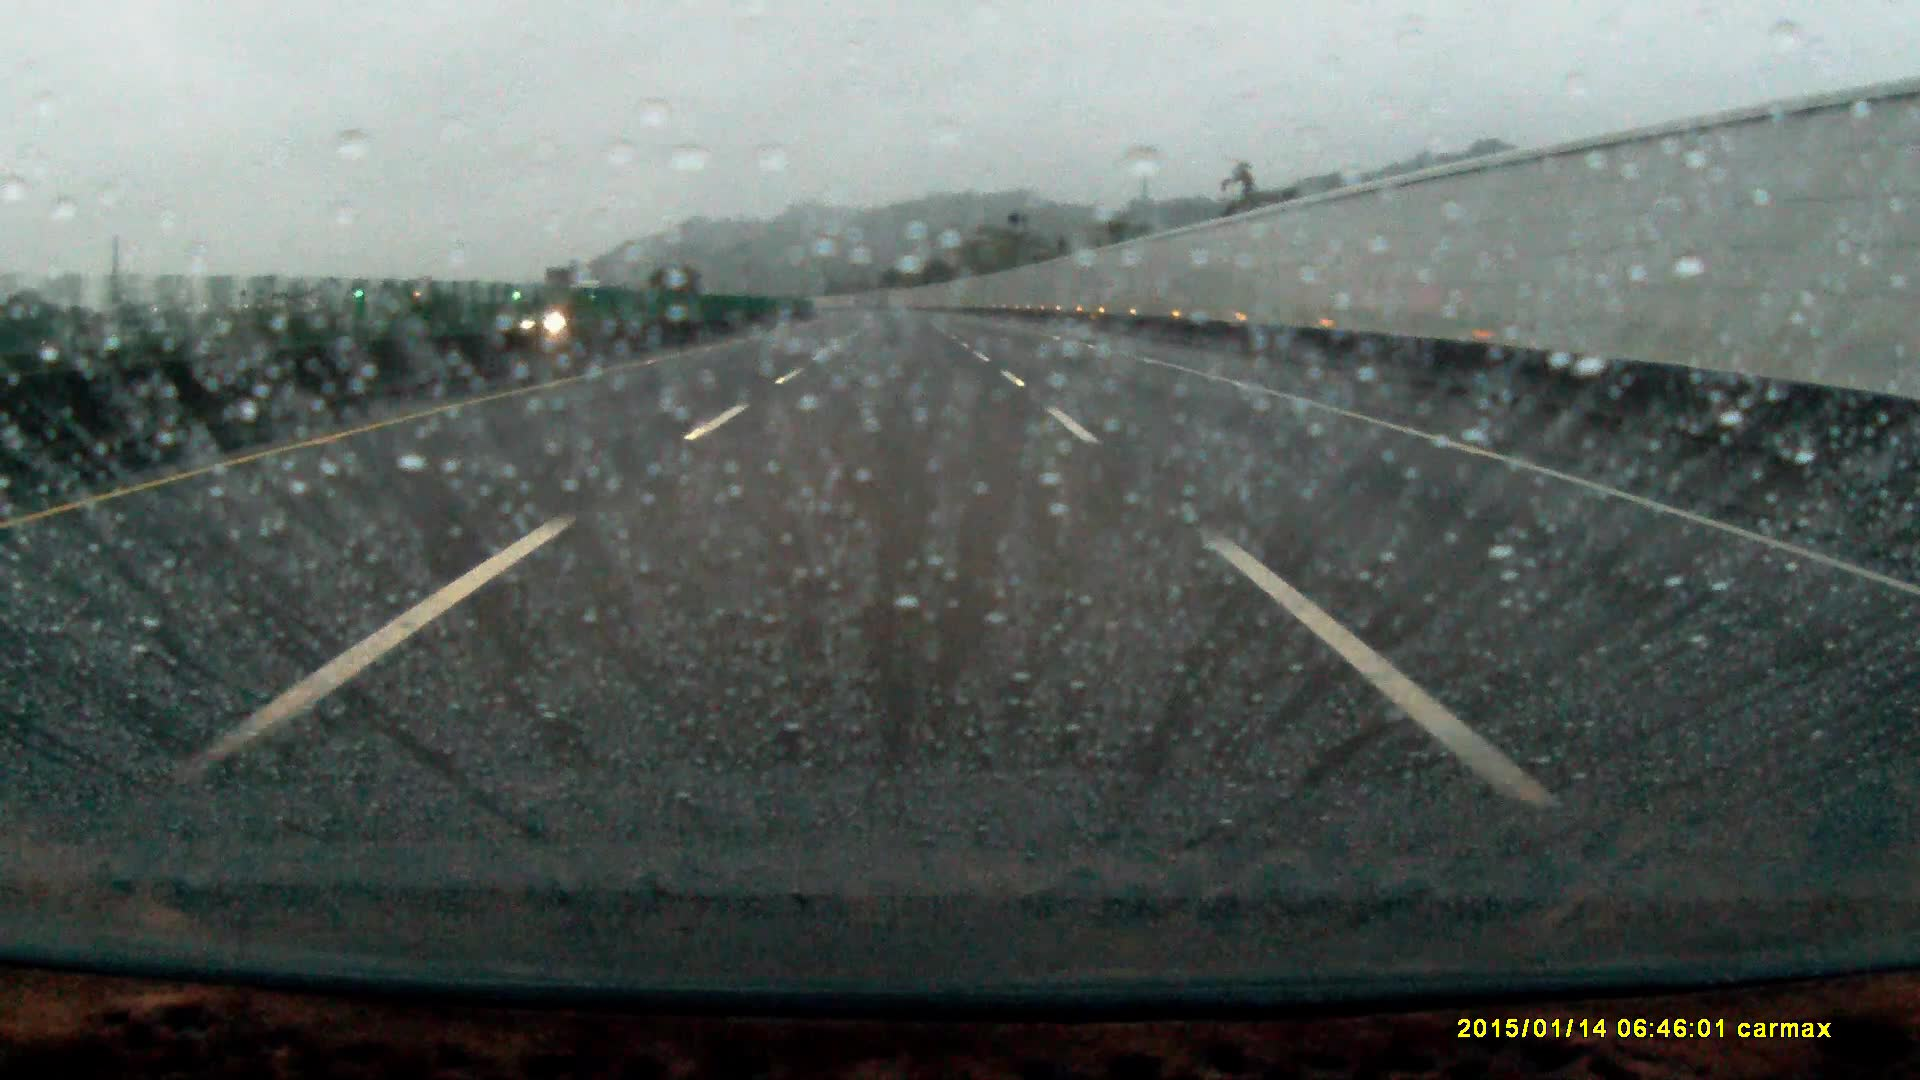vehicle: (513, 301, 589, 336)
